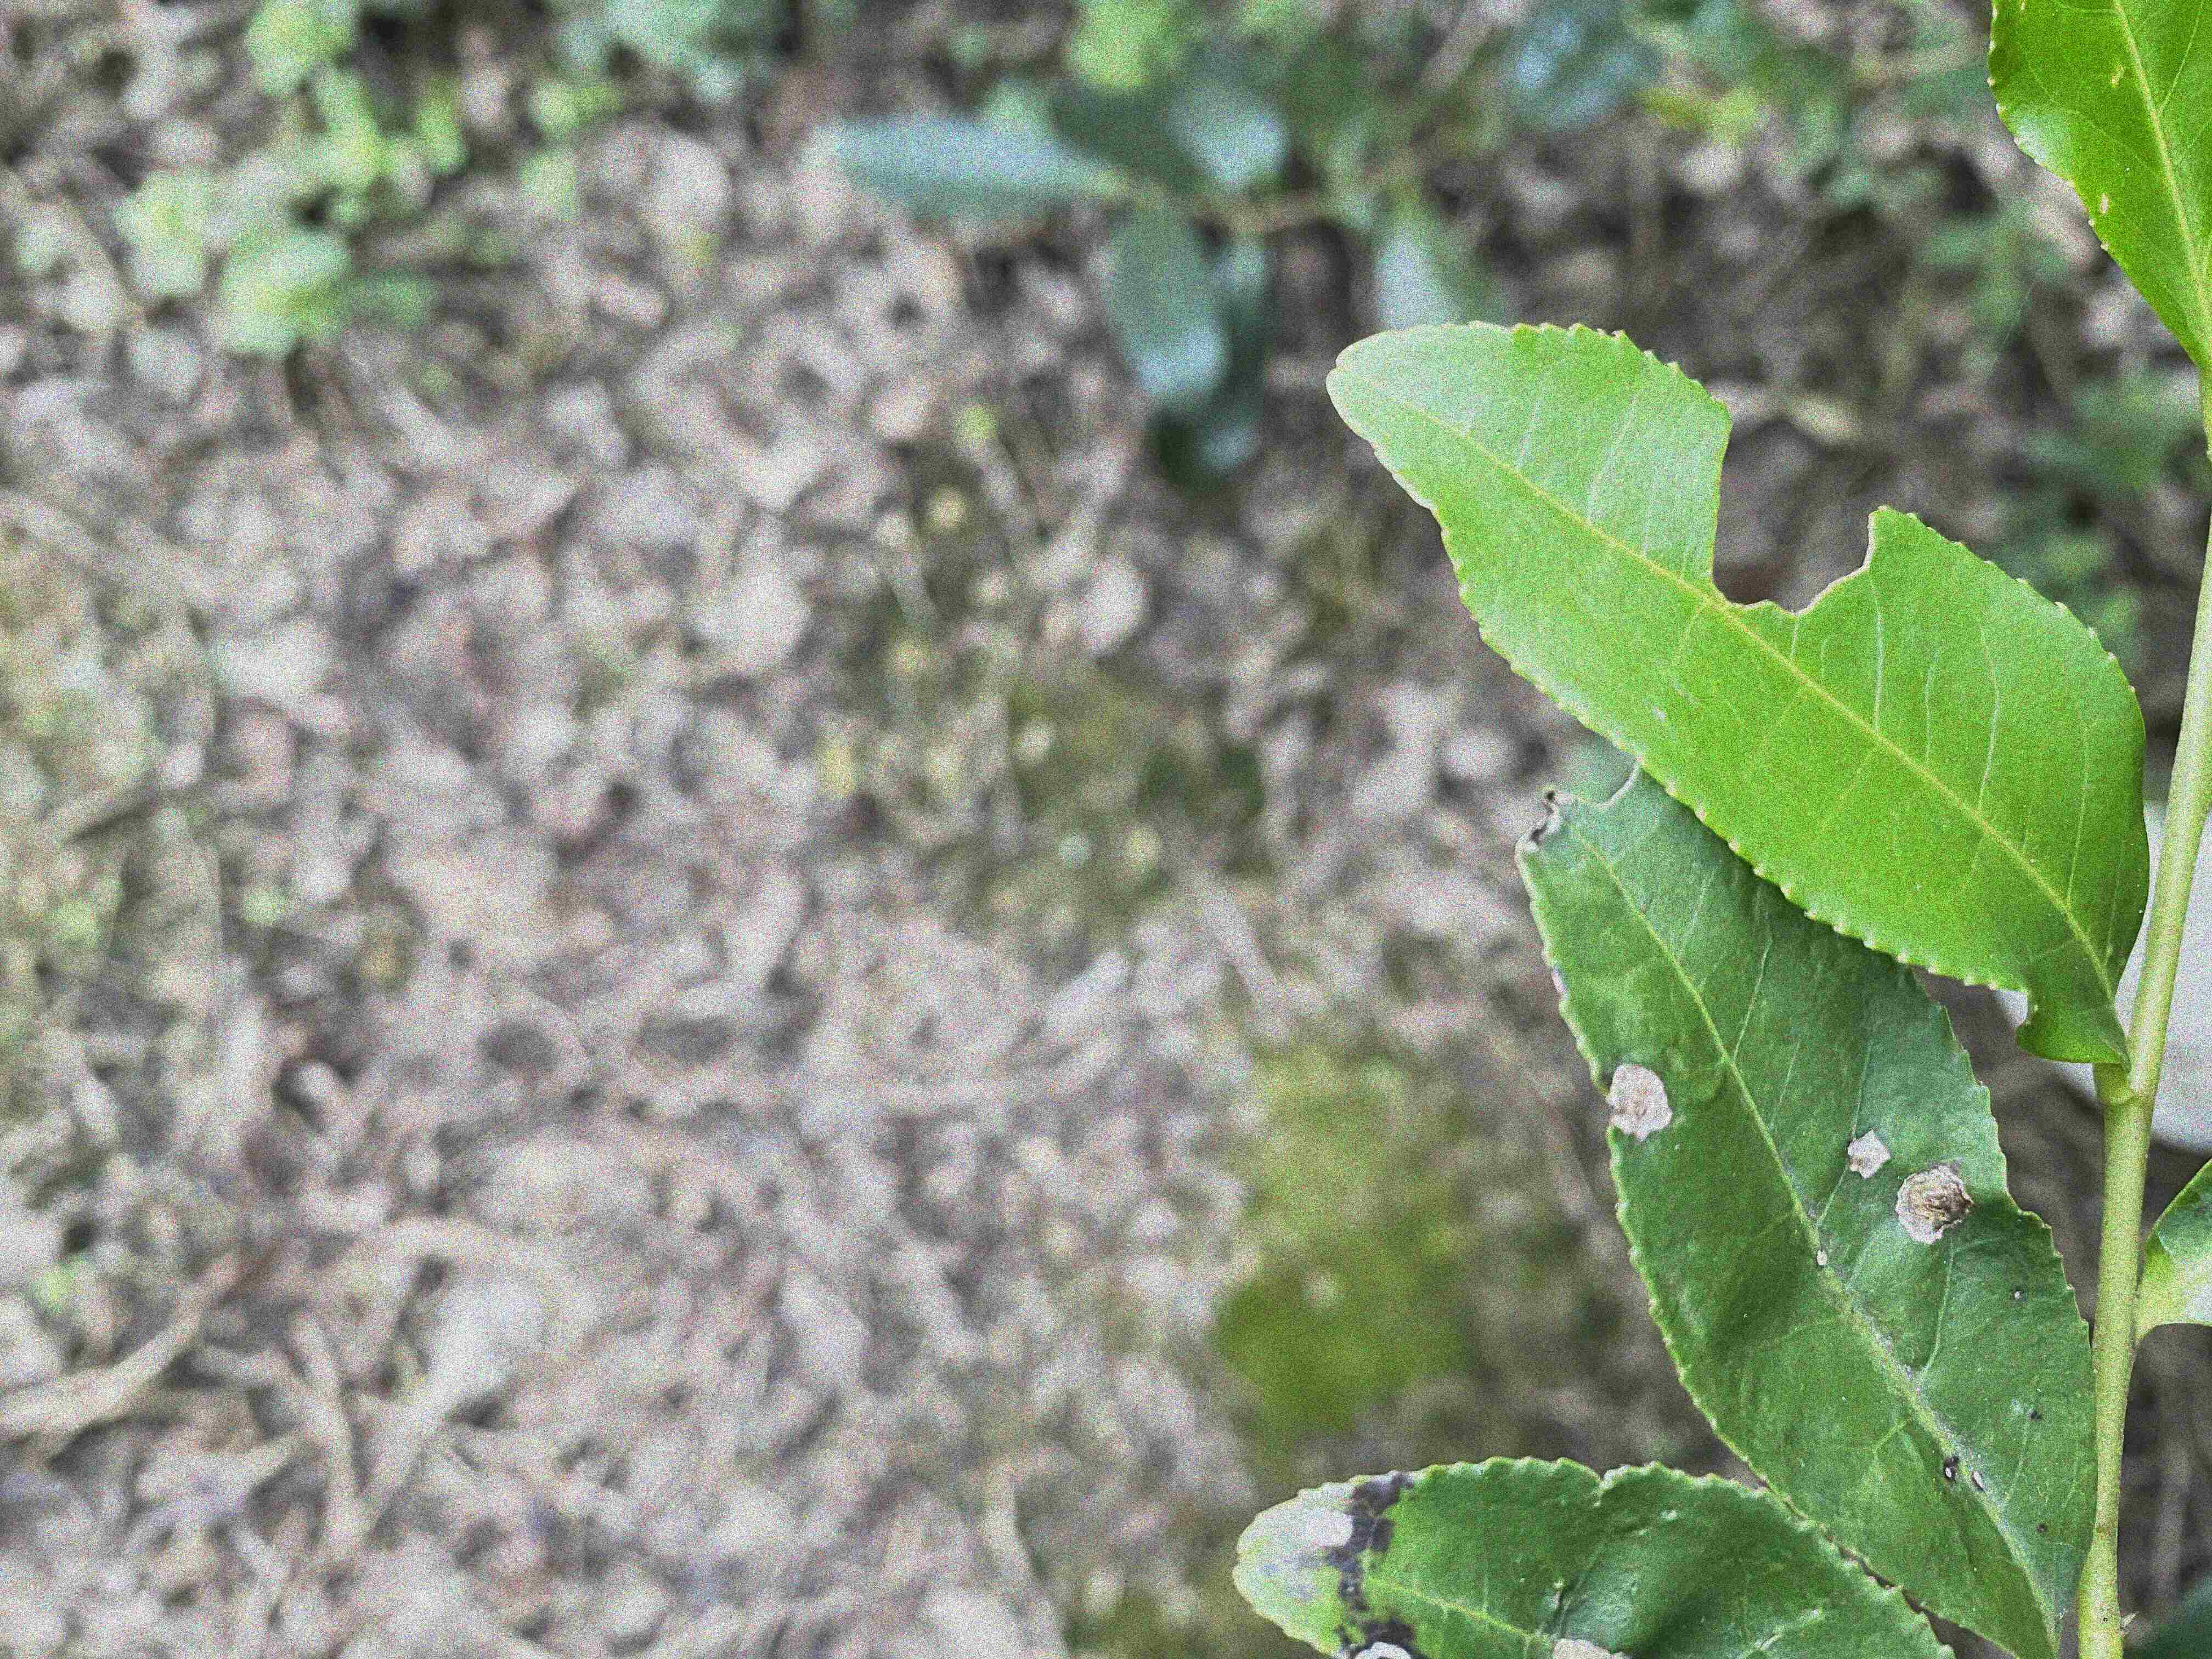chihuo_low: (1324, 317, 2153, 1053)
tanju_high: (1510, 817, 2097, 1656), (1228, 1455, 1954, 1656)
